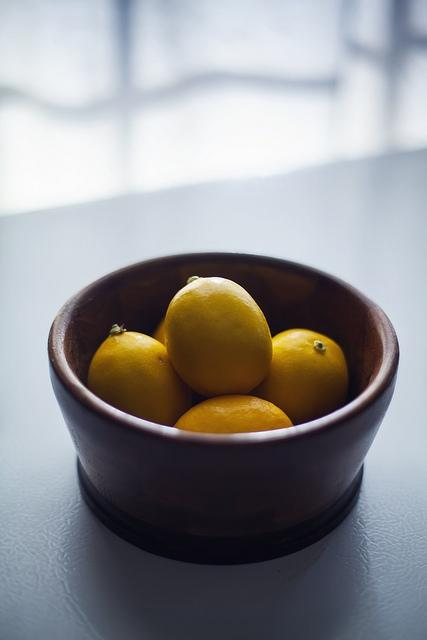lemon: (164, 276, 272, 398), (87, 323, 192, 427), (248, 327, 350, 426), (173, 394, 294, 434), (154, 319, 165, 346)
